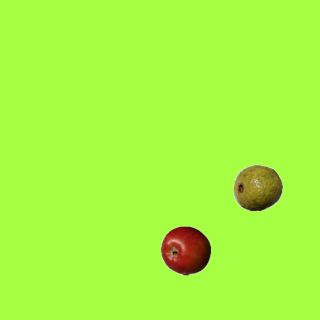Apple Braeburn: (160, 225, 210, 275)
Guava: (232, 162, 282, 212)
